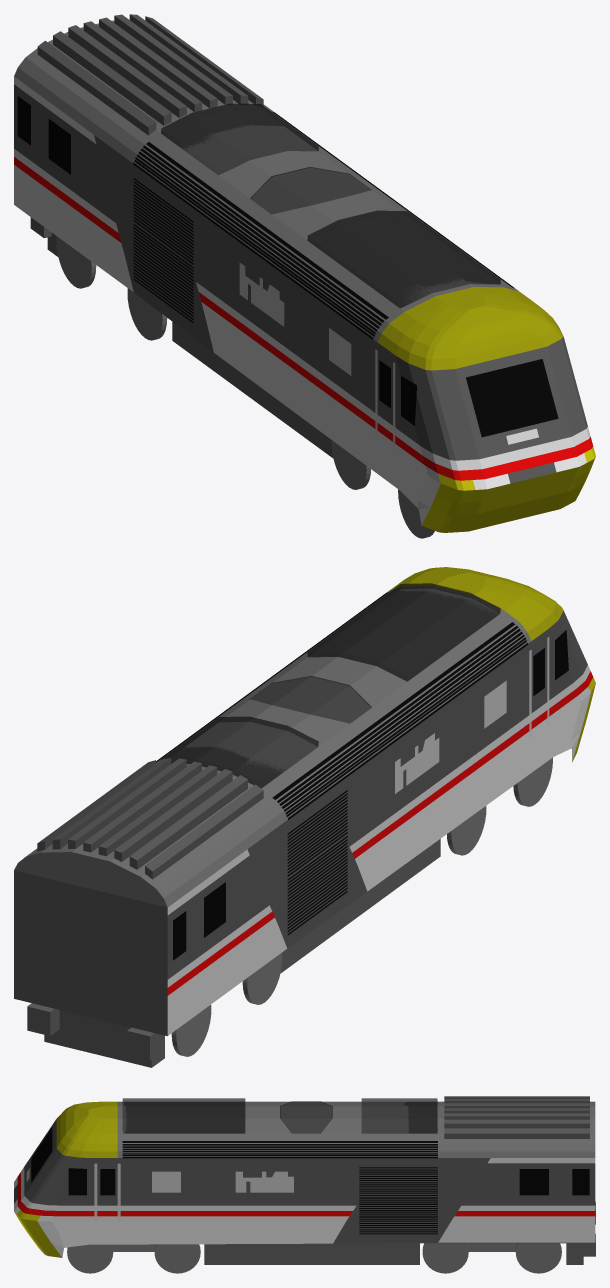
The model's file is br-cl43-front-swallow.dae.
3 views of the same model, one above another, from view 1: azimuth 30°, elevation 25°; view 2: azimuth 150°, elevation 25°; view 3: azimuth 270°, elevation 25° (orthographic). The views are drawn at different scales.
Visible parts, largest first — view 1: Plane_030, Plane_001, Cube_008, Plane_028, Plane_135, Plane_148, Plane_136, Plane_117, Plane_166, Plane_137, Cube_033, Plane_134 (+6 smaller); view 2: Plane_030, Plane_001, Plane_019, Cube_008, Plane_135, Plane_148, Plane_136, Plane_166, Plane_028, Plane_137, Cube_033, Cube_001 (+9 smaller); view 3: Plane_030, Plane_001, Cube_008, Plane_104, Cube_033, Plane_135, Plane_016, Plane_028, Plane_136, Plane_137, Cylinder_010, Cylinder_011 (+14 smaller).
Part boxes in pixels (bbox=[...]): Plane_030: bbox=[14, 76, 595, 532]; Plane_001: bbox=[14, 20, 518, 342]; Cube_008: bbox=[37, 14, 263, 135]; Plane_028: bbox=[378, 287, 563, 370]; Plane_135: bbox=[307, 210, 500, 308]; Plane_148: bbox=[133, 142, 388, 339]; Plane_136: bbox=[161, 103, 318, 174]; Plane_117: bbox=[466, 359, 558, 437]; Plane_166: bbox=[133, 178, 193, 323]; Plane_137: bbox=[250, 167, 371, 214]; Cube_033: bbox=[172, 322, 333, 458]; Plane_134: bbox=[239, 262, 284, 326]; Plane_030: bbox=[167, 610, 595, 1035]; Plane_001: bbox=[14, 586, 531, 907]; Plane_019: bbox=[14, 870, 167, 1036]; Cube_008: bbox=[37, 758, 263, 879]; Plane_135: bbox=[307, 583, 500, 681]; Plane_148: bbox=[272, 622, 528, 819]; Plane_136: bbox=[161, 716, 318, 788]; Plane_166: bbox=[287, 790, 347, 935]; Plane_028: bbox=[390, 567, 563, 640]; Plane_137: bbox=[250, 676, 371, 723]; Cube_033: bbox=[280, 839, 440, 973]; Cube_001: bbox=[44, 1010, 164, 1067]; Plane_030: bbox=[15, 1119, 595, 1257]; Plane_001: bbox=[117, 1101, 595, 1157]; Cube_008: bbox=[444, 1096, 589, 1138]; Plane_104: bbox=[122, 1141, 437, 1158]; Cube_033: bbox=[204, 1243, 419, 1264]; Plane_135: bbox=[122, 1098, 245, 1133]; Plane_016: bbox=[359, 1167, 437, 1234]; Plane_028: bbox=[56, 1101, 117, 1157]; Plane_136: bbox=[361, 1098, 437, 1133]; Plane_137: bbox=[280, 1101, 332, 1133]; Cylinder_010: bbox=[422, 1243, 468, 1273]; Cylinder_011: bbox=[515, 1243, 561, 1273].
Size of the model in its own units: 2.02 by 9.99 by 2.77.
